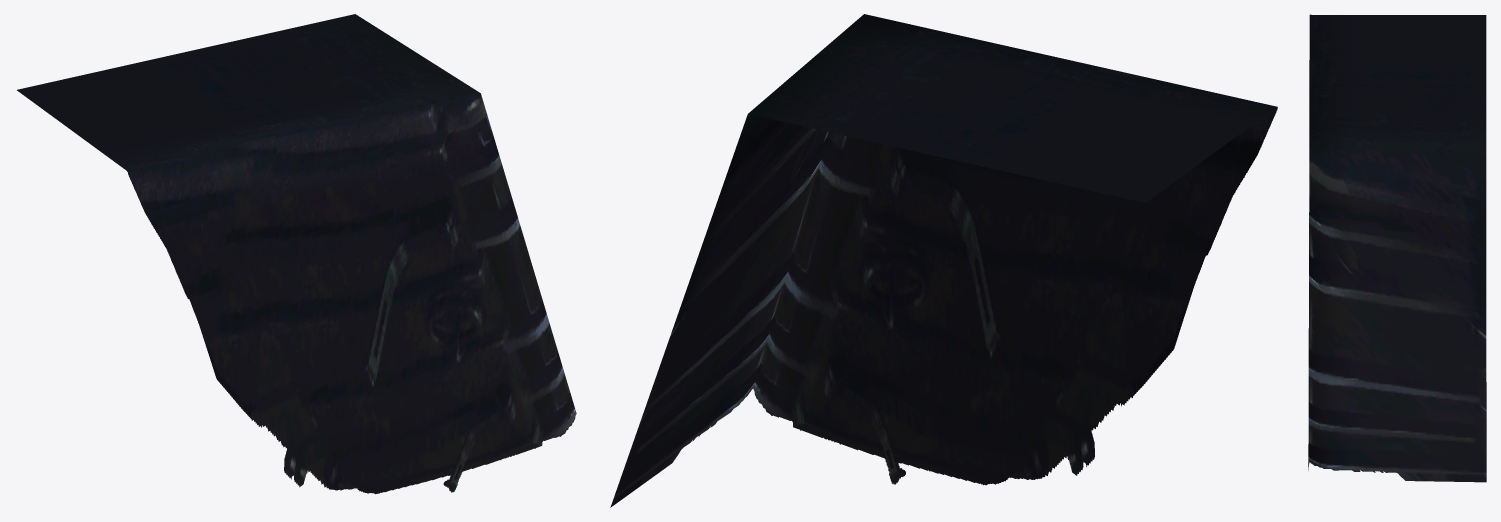
The picture shows the model from 3 angles, left to right: view 1: azimuth 30°, elevation 25°; view 2: azimuth 150°, elevation 25°; view 3: azimuth 270°, elevation 25°; orthographic projection. The views are drawn at different scales.
Visible parts, largest first — view 1: mesh_162_272.nr; view 2: mesh_162_272.nr; view 3: mesh_162_272.nr.
Part boxes in pixels (bbox=[...]): mesh_162_272.nr: bbox=[17, 14, 576, 494]; mesh_162_272.nr: bbox=[610, 14, 1277, 507]; mesh_162_272.nr: bbox=[1308, 14, 1486, 482].
Bounding box in the file's own units: 1.55 × 1.31 × 0.662.
